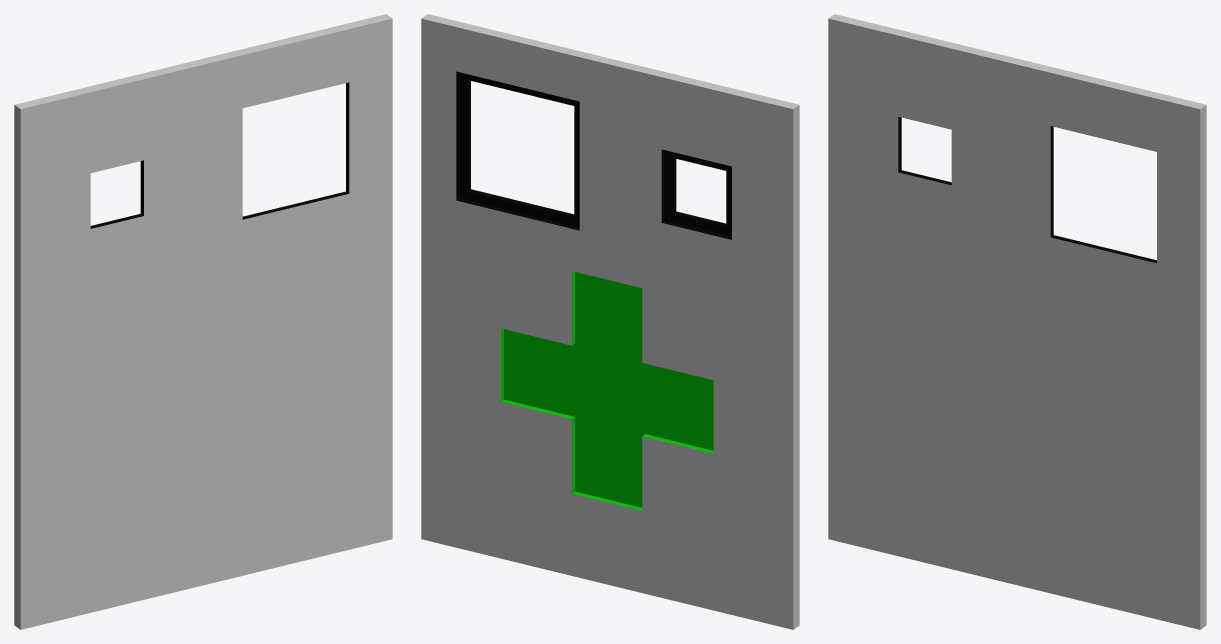
Rendered from green_cruciform.dae.
The picture shows the model from 3 angles, left to right: view 1: azimuth 30°, elevation 25°; view 2: azimuth 150°, elevation 25°; view 3: azimuth 330°, elevation 25°; orthographic projection.
Visible parts, largest first — view 1: ShapeIndexedFaceSet; view 2: ShapeIndexedFaceSet; view 3: ShapeIndexedFaceSet.
Boxes of the visible parts, <box> form: ShapeIndexedFaceSet: <box>14,14,392,629</box>; ShapeIndexedFaceSet: <box>421,14,799,629</box>; ShapeIndexedFaceSet: <box>828,14,1206,629</box>.
Size of the model in its own units: 1.75 by 0.0508 by 2.34.
